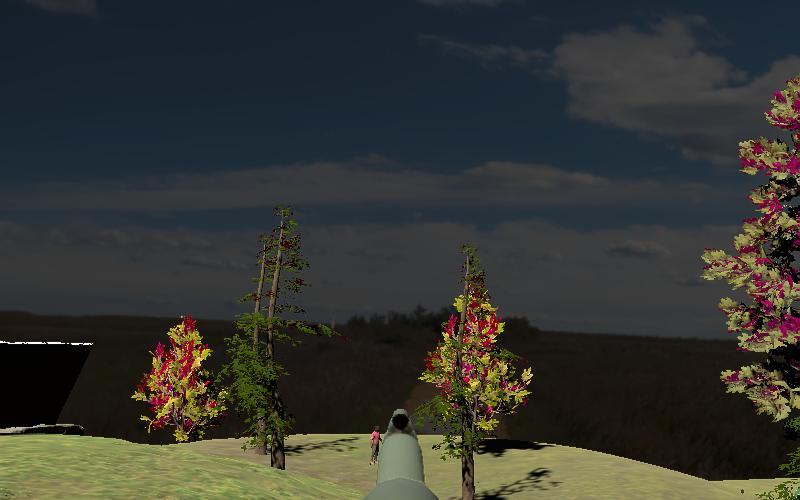Human: (368, 424, 384, 467)
